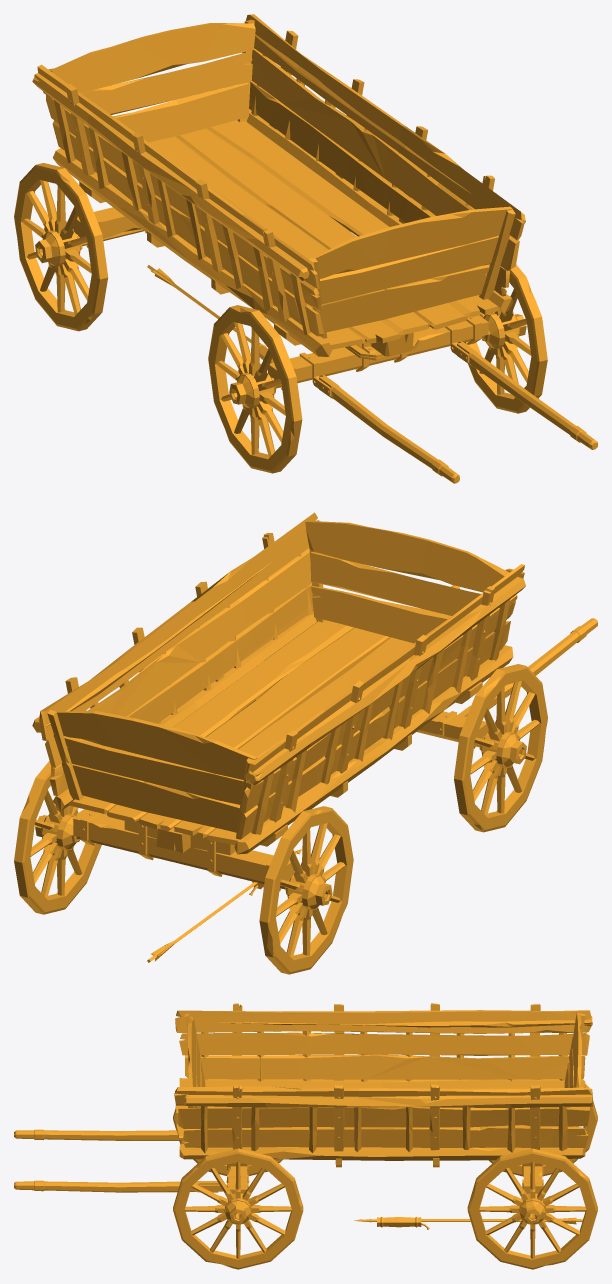
Rendered from SM_Cart_Wooden_Big_Fantasy.fbx.
3 renders of one model, top to bottom at view 1: azimuth 30°, elevation 25°; view 2: azimuth 150°, elevation 25°; view 3: azimuth 270°, elevation 25°, orthographic. The views are drawn at different scales.
Visible parts, largest first — view 1: cart-wooden-big-board-side-a.001-fantasy, cart-wooden-big-base-fantasy, cart-wooden-big-board-front-fantasy, cart-wooden-big-wheels-fr-fantasy, cart-wooden-big-board-back-fantasy, cart-wooden-big-wheels-ba-fantasy, cart-wooden-big-board-side-a-fantasy, cart-wooden-big-handles-fantasy, cart-wooden-big-front-fantasy; view 2: cart-wooden-big-board-side-a.001-fantasy, cart-wooden-big-base-fantasy, cart-wooden-big-wheels-ba-fantasy, cart-wooden-big-board-back-fantasy, cart-wooden-big-board-front-fantasy, cart-wooden-big-wheels-fr-fantasy, cart-wooden-big-board-side-a-fantasy, cart-wooden-big-handles-fantasy, cart-wooden-big-front-fantasy, hwacha-arrow; view 3: cart-wooden-big-board-side-a.001-fantasy, cart-wooden-big-board-side-a-fantasy, cart-wooden-big-base-fantasy, cart-wooden-big-wheels-ba-fantasy, cart-wooden-big-wheels-fr-fantasy, cart-wooden-big-handles-fantasy, cart-wooden-big-board-back-fantasy, cart-wooden-big-board-front-fantasy, hwacha-arrow, cart-wooden-big-front-fantasy.
Boxes of the visible parts, box(x1,y1,x2,y2) form: cart-wooden-big-board-side-a.001-fantasy: box(37, 14, 525, 336); cart-wooden-big-base-fantasy: box(53, 109, 513, 357); cart-wooden-big-board-front-fantasy: box(309, 206, 515, 338); cart-wooden-big-wheels-fr-fantasy: box(208, 264, 547, 473); cart-wooden-big-board-back-fantasy: box(48, 19, 255, 142); cart-wooden-big-wheels-ba-fantasy: box(14, 163, 350, 331); cart-wooden-big-board-side-a-fantasy: box(32, 34, 525, 334); cart-wooden-big-handles-fantasy: box(312, 341, 597, 483); cart-wooden-big-front-fantasy: box(268, 315, 488, 389); cart-wooden-big-board-side-a.001-fantasy: box(39, 512, 524, 838); cart-wooden-big-base-fantasy: box(53, 611, 513, 891); cart-wooden-big-wheels-ba-fantasy: box(14, 761, 353, 974); cart-wooden-big-board-back-fantasy: box(47, 709, 257, 839); cart-wooden-big-board-front-fantasy: box(305, 520, 513, 643); cart-wooden-big-wheels-fr-fantasy: box(246, 628, 547, 832); cart-wooden-big-board-side-a-fantasy: box(32, 554, 525, 834); cart-wooden-big-handles-fantasy: box(451, 585, 597, 716); cart-wooden-big-front-fantasy: box(419, 711, 488, 748); hwacha-arrow: box(147, 849, 301, 962); cart-wooden-big-board-side-a.001-fantasy: box(174, 1003, 593, 1151); cart-wooden-big-board-side-a-fantasy: box(184, 1016, 592, 1153); cart-wooden-big-base-fantasy: box(175, 1078, 585, 1193); cart-wooden-big-wheels-ba-fantasy: box(467, 1084, 597, 1269); cart-wooden-big-wheels-fr-fantasy: box(173, 1109, 303, 1269); cart-wooden-big-handles-fantasy: box(14, 1129, 223, 1192); cart-wooden-big-board-back-fantasy: box(564, 1012, 585, 1126); cart-wooden-big-board-front-fantasy: box(184, 1013, 205, 1108); hwacha-arrow: box(354, 1217, 582, 1229); cart-wooden-big-front-fantasy: box(221, 1164, 249, 1193).
Bounding box in the file's own units: 1.89 × 1.55 × 4.4.
